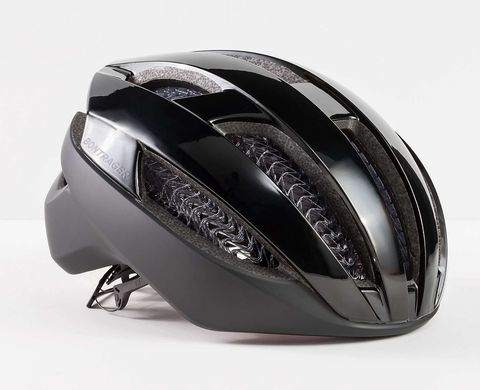with_helmet: (42, 43, 452, 347)
